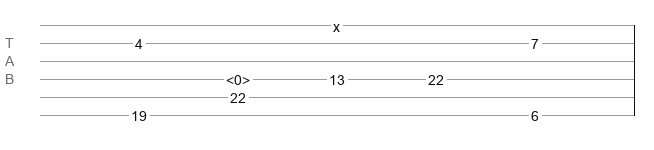13: (329, 72, 345, 82)
19: (131, 108, 147, 118)
22: (230, 90, 246, 100), (428, 72, 444, 82)
4: (135, 36, 143, 46)
6: (531, 108, 539, 118)
7: (531, 36, 539, 46)
harmonic: (226, 72, 250, 82)
x: (333, 19, 340, 27)
